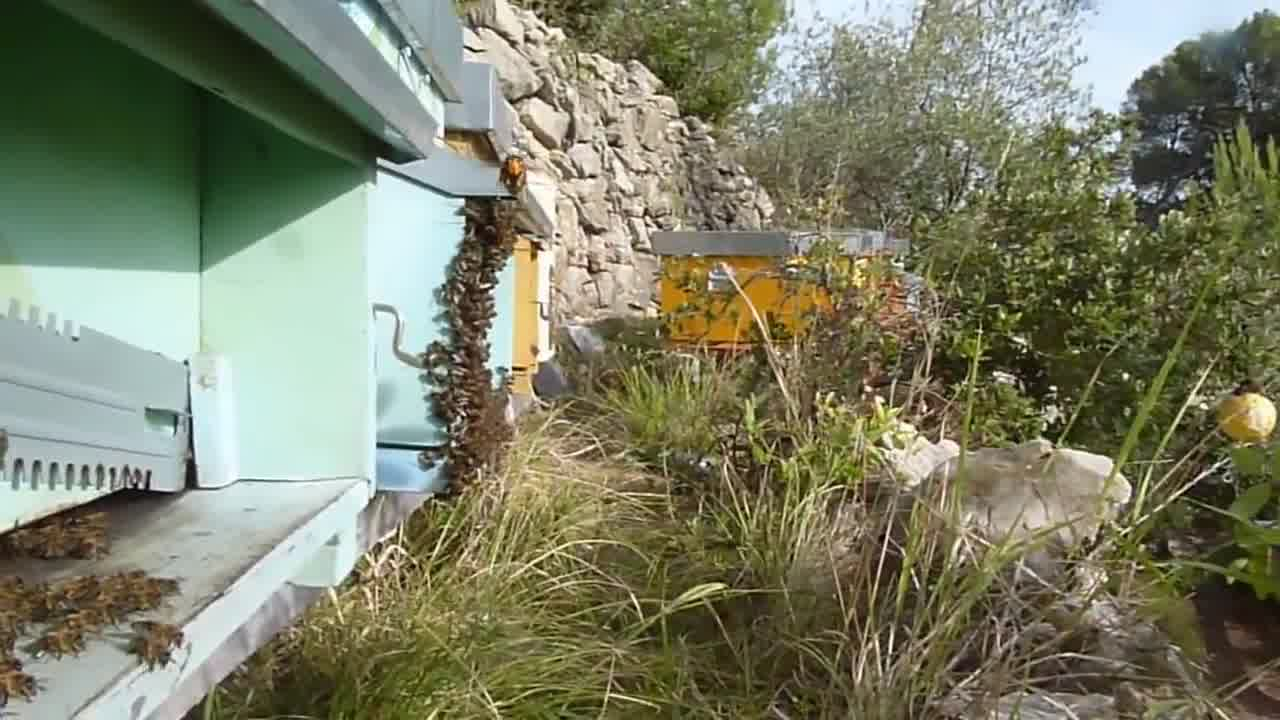bee: (5, 570, 94, 659), (85, 561, 187, 623), (10, 509, 113, 562), (421, 341, 503, 407), (438, 260, 501, 337), (447, 403, 508, 482), (120, 620, 195, 678), (453, 200, 513, 265)
hornet: (490, 138, 542, 203)
